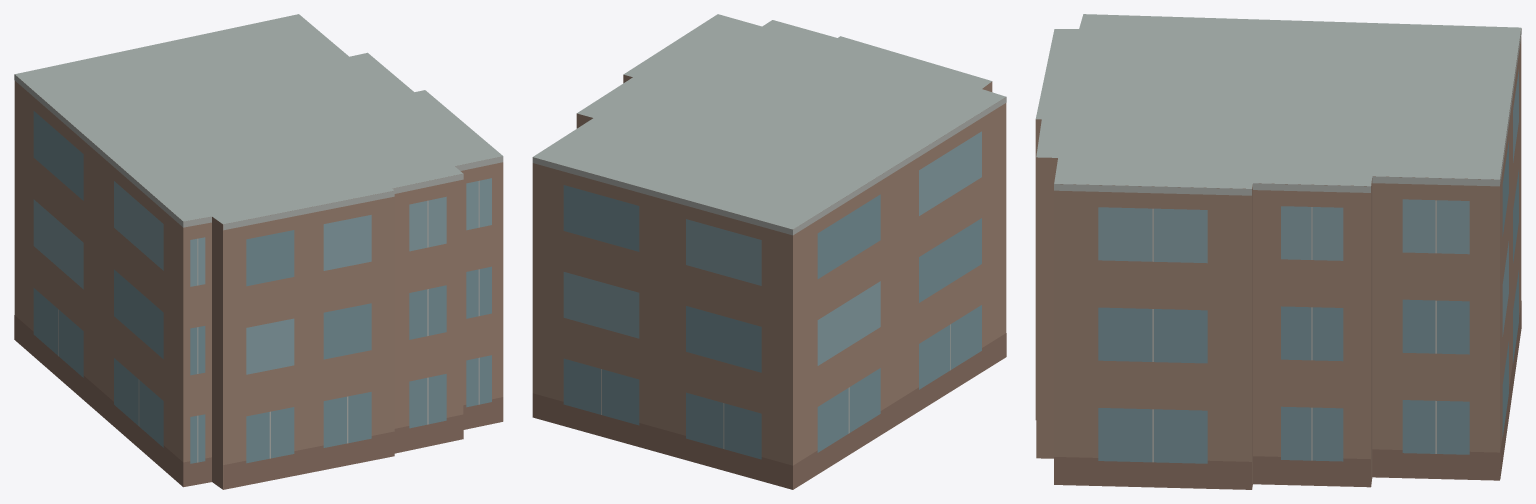
Rendered from survey-upis-32866293.glb.
3 renders of one model, left to right at view 1: azimuth 30°, elevation 25°; view 2: azimuth 150°, elevation 25°; view 3: azimuth 270°, elevation 25°, orthographic. The views are drawn at different scales.
Visible parts, largest first — view 1: survey-upis-32866293.tmp; view 2: survey-upis-32866293.tmp; view 3: survey-upis-32866293.tmp.
Part boxes in pixels (left/top/right/bottom): survey-upis-32866293.tmp: left=14, top=14, right=503, bottom=489; survey-upis-32866293.tmp: left=532, top=14, right=1006, bottom=489; survey-upis-32866293.tmp: left=1035, top=14, right=1521, bottom=489.
Size of the model in its own units: 13.47 by 10.8 by 15.81.
